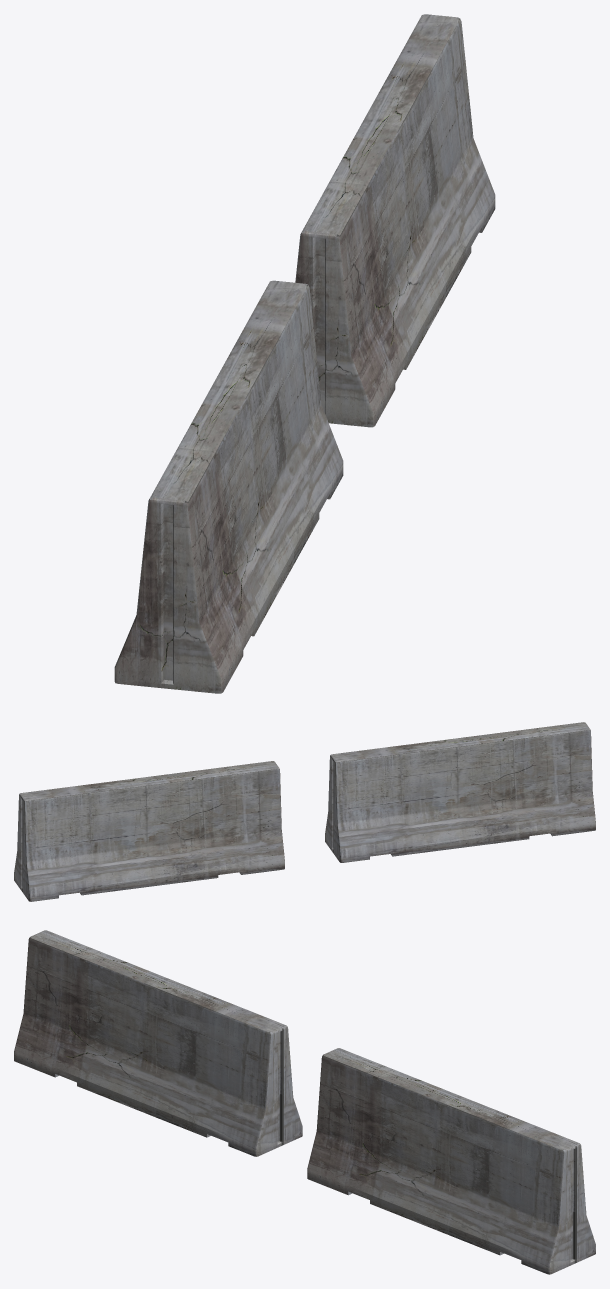
Rendered from City_Barricade009.fbx.
The picture shows the model from 3 angles, top to bottom: view 1: azimuth 30°, elevation 25°; view 2: azimuth 150°, elevation 25°; view 3: azimuth 270°, elevation 25°; orthographic projection. The views are drawn at different scales.
Visible parts, largest first — view 1: City_Barricade_009:Barricade_009; view 2: City_Barricade_009:Barricade_009; view 3: City_Barricade_009:Barricade_009.
Part boxes in pixels (box(x1,y1,x2,y2)): City_Barricade_009:Barricade_009: box(114, 14, 495, 693); City_Barricade_009:Barricade_009: box(14, 722, 595, 901); City_Barricade_009:Barricade_009: box(14, 930, 595, 1274).
Bounding box in the file's own units: 496 × 115 × 519.
Materials: 1 (1 with a texture image).
